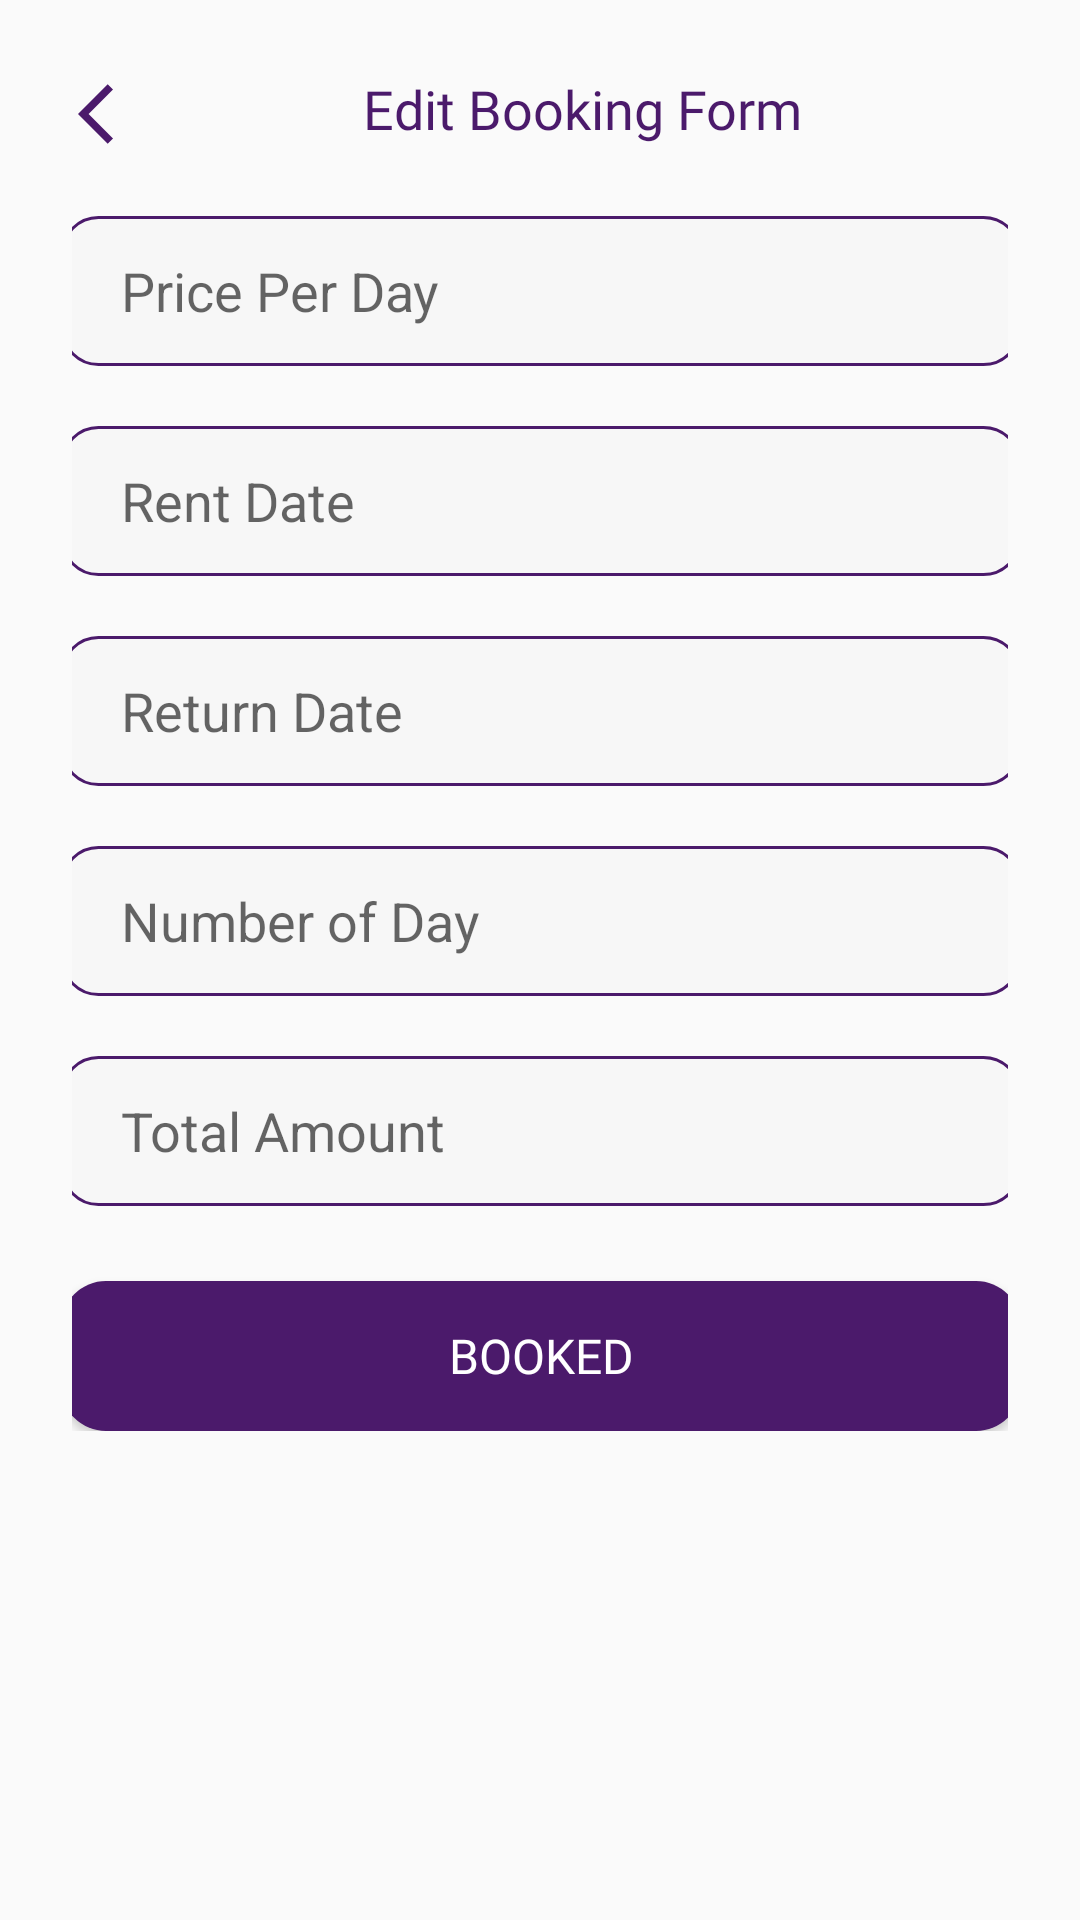

Screen size 1080px×1920px. Icon name, then its center in pixels as point (x, y):
back arrow: point (95, 114)
